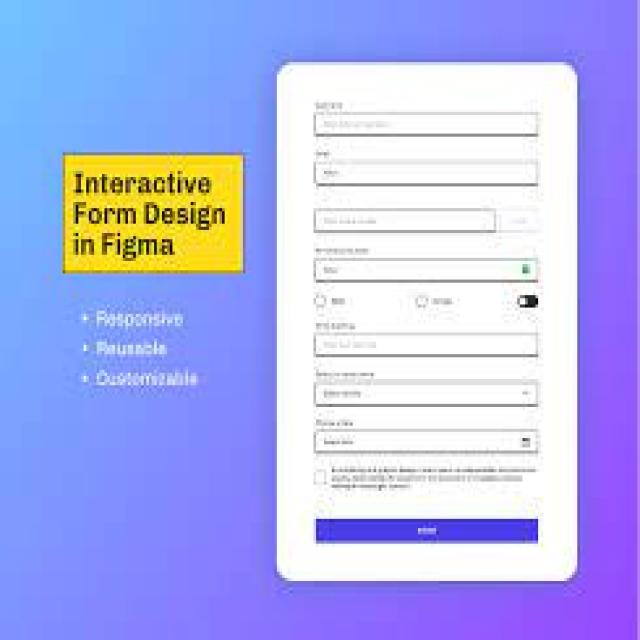button: (316, 521, 537, 540)
image: (55, 143, 252, 403)
input field: (316, 258, 536, 282), (314, 333, 537, 355), (316, 162, 536, 184), (317, 433, 539, 453), (315, 385, 536, 405), (314, 210, 496, 231), (314, 115, 537, 132)
